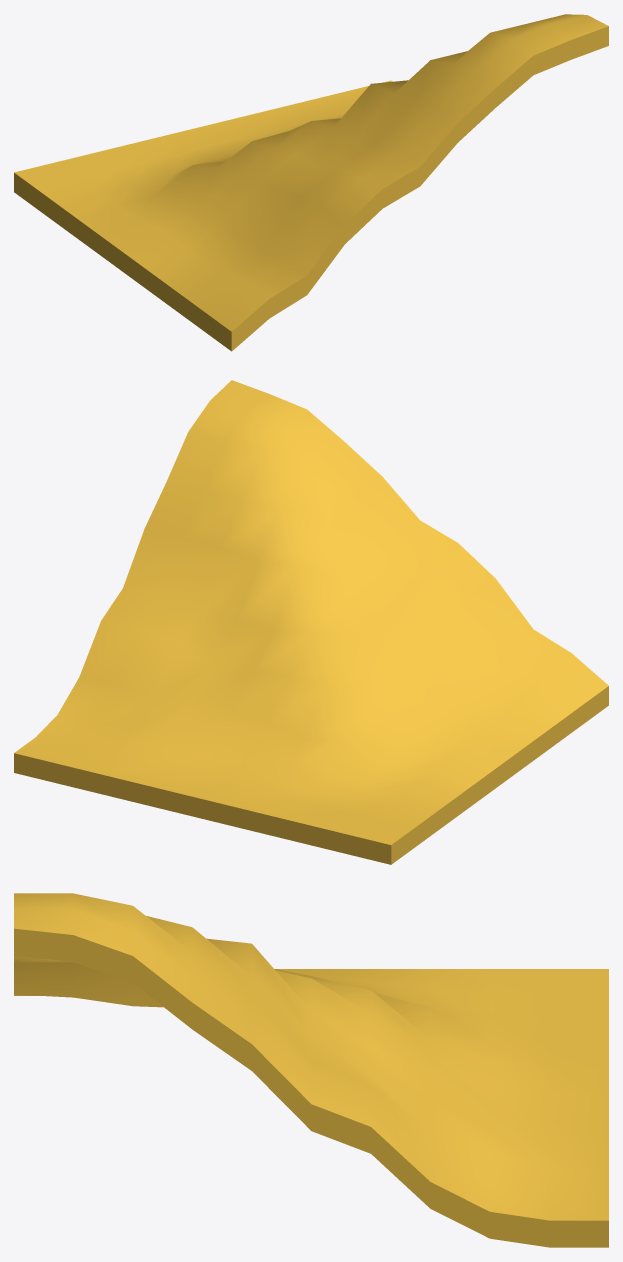
Rendered from Steil - Unten - Ecke a - b.fbx.
3 renders of one model, top to bottom at view 1: azimuth 30°, elevation 25°; view 2: azimuth 150°, elevation 25°; view 3: azimuth 270°, elevation 25°, orthographic. The views are drawn at different scales.
Visible parts, largest first — view 1: Steil - Unten - Ecke a - b; view 2: Steil - Unten - Ecke a - b; view 3: Steil - Unten - Ecke a - b.
Part boxes in pixels (<box>): Steil - Unten - Ecke a - b: <box>14,14,608,351</box>; Steil - Unten - Ecke a - b: <box>14,380,608,864</box>; Steil - Unten - Ecke a - b: <box>14,893,608,1247</box>.
Bounding box in the file's own units: 394 × 233 × 394.
